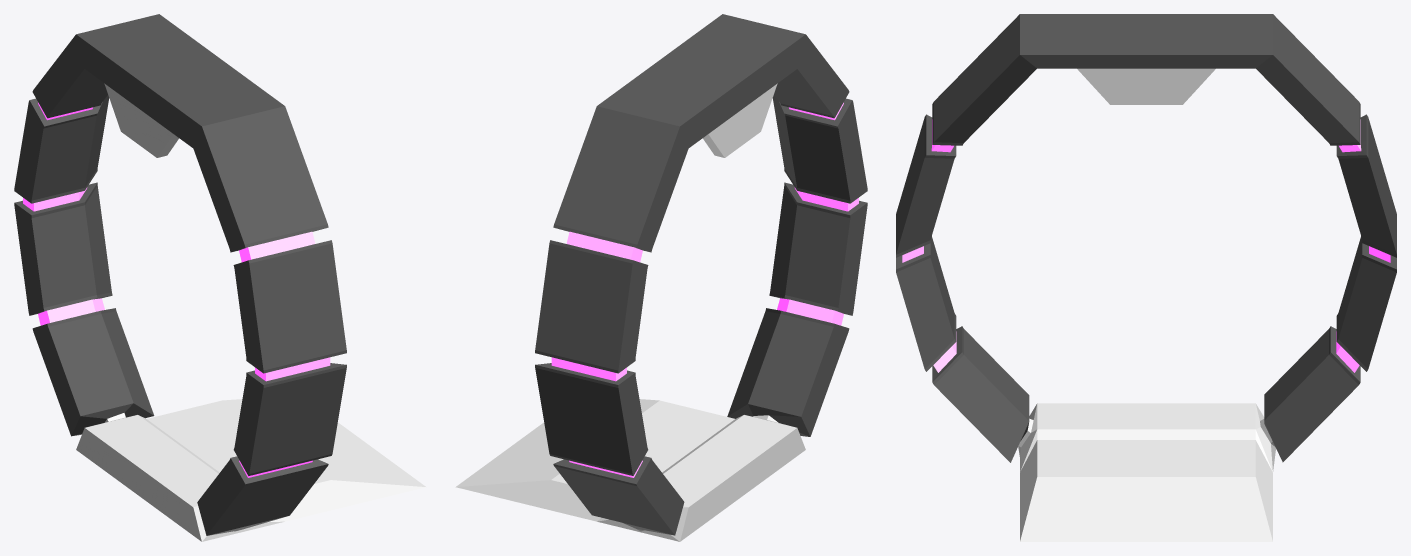
Rendered from farm_porta.fbx.
3 views of the same model, side by side, from view 1: azimuth 30°, elevation 25°; view 2: azimuth 150°, elevation 25°; view 3: azimuth 270°, elevation 25° (orthographic).
Parts seen in each view (by area): view 1: Circle.001; view 2: Circle.001; view 3: Circle.001.
Boxes of the visible parts, x1,y1,x2,y2 form: Circle.001: (14, 14, 426, 541); Circle.001: (455, 14, 867, 541); Circle.001: (896, 14, 1396, 541).
Size of the model in its own units: 1061 by 1875 by 2038.
